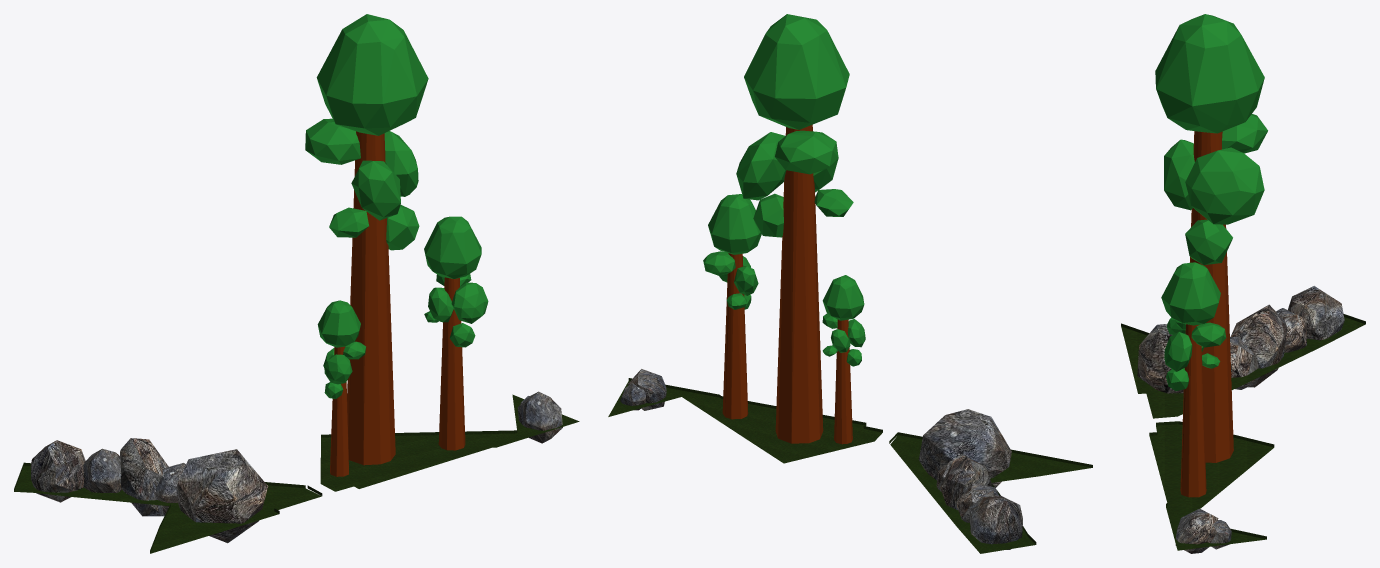
The model's file is Big Tree Area.glb.
The picture shows the model from 3 angles, left to right: view 1: azimuth 30°, elevation 25°; view 2: azimuth 150°, elevation 25°; view 3: azimuth 270°, elevation 25°; orthographic projection. The views are drawn at different scales.
Parts seen in each view (by area): view 1: Leaves, Trunk, Rocks, Ground; view 2: Leaves, Trunk, Rocks, Ground; view 3: Leaves, Rocks, Ground, Trunk.
Boxes of the visible parts, box(x1,y1,x2,y2) form: Leaves: box(305, 14, 488, 398); Trunk: box(330, 131, 465, 476); Rocks: box(30, 391, 562, 543); Ground: box(14, 394, 579, 553); Leaves: box(703, 14, 865, 366); Trunk: box(722, 124, 852, 444); Rocks: box(620, 369, 1022, 549); Ground: box(608, 378, 1092, 553); Leaves: box(1155, 14, 1267, 390); Rocks: box(1137, 286, 1344, 553); Ground: box(1121, 314, 1365, 550); Trunk: box(1180, 131, 1233, 497).
Size of the model in its own units: 105 by 94.31 by 44.63.
Materials: 4 (2 with a texture image).
